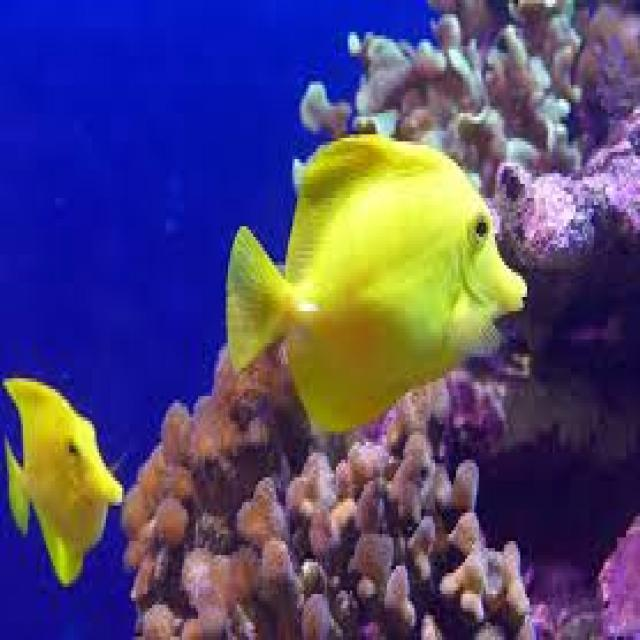YellowTang: (212, 119, 543, 454), (0, 367, 128, 596)
